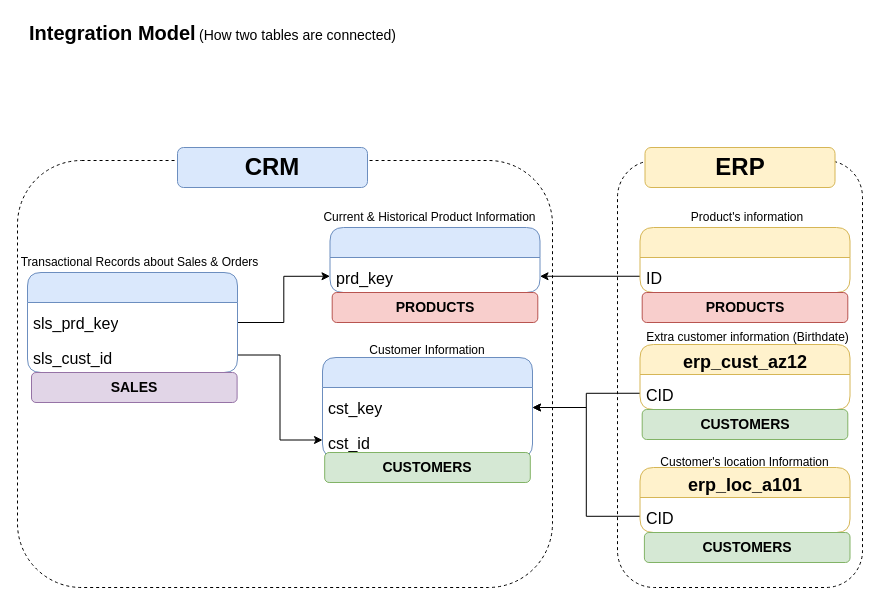
Image size: 887x605. Some labels were removed from this diagram. The shapes that lost their labels are listed below. From the top down, each one's box as (x1, y1, x2, y2) in pixels, then its label:
(329, 226, 540, 292): crm_prd_info
(639, 226, 850, 292): erp_px_cat_g1v2
(26, 272, 238, 372): crm_sales_details
(322, 356, 532, 458): crm_cust_info
